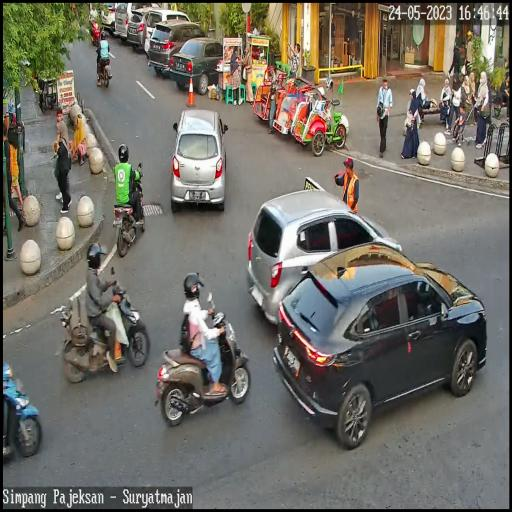mobil: (274, 240, 489, 440), (242, 185, 406, 321), (171, 106, 229, 215), (149, 18, 208, 82), (174, 33, 230, 97), (146, 7, 190, 53)
motor: (156, 300, 250, 432), (59, 262, 148, 392), (109, 160, 147, 258), (93, 48, 112, 91)
